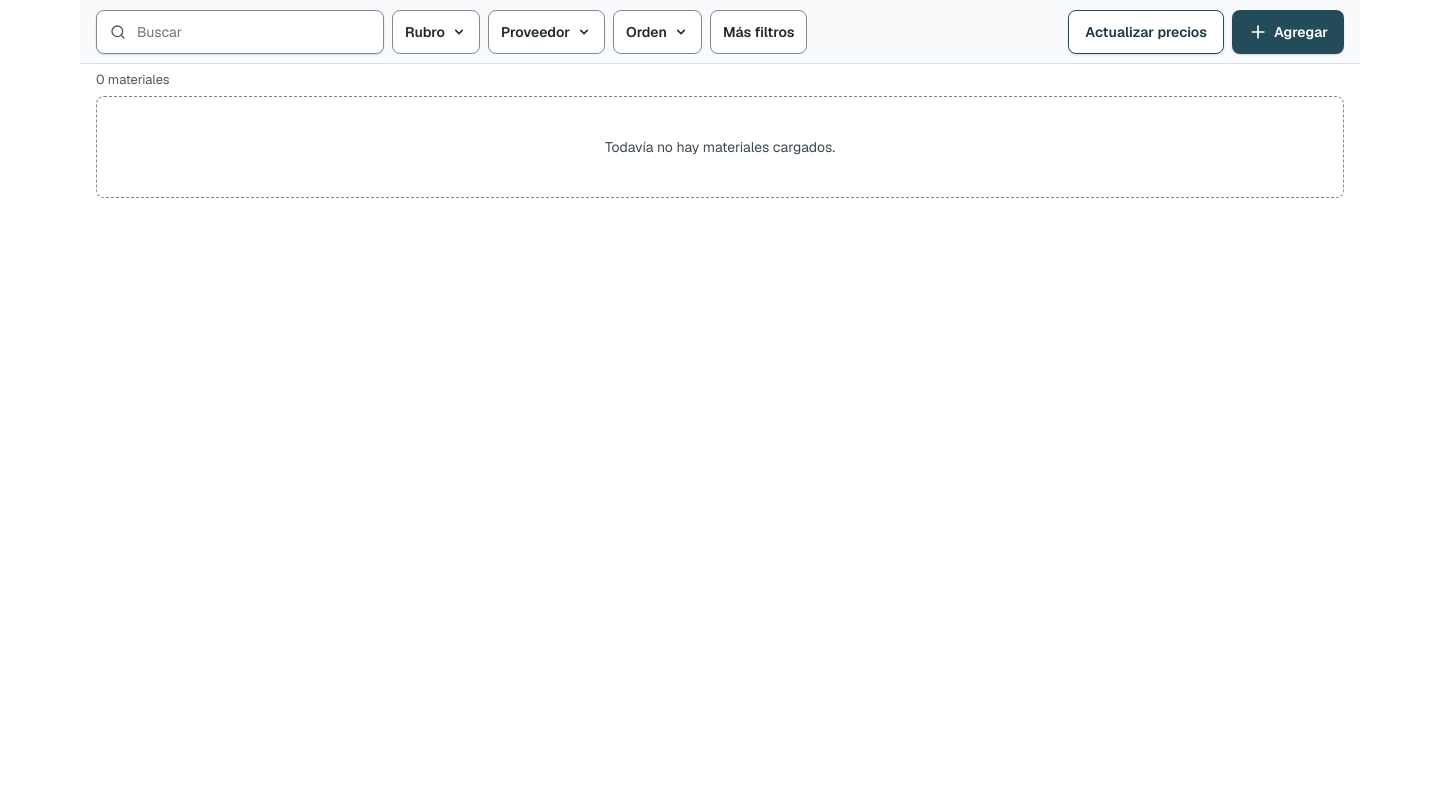
Test: Materiales › agrega un material con precio y cantidades por tamaño
Expected: the text "Todavía no hay materiales cargados." is shown, [96,96,1344,198]
Click the button with aria-label "Agregar material".
click(1288, 32)  # box [1232,10,1344,54]
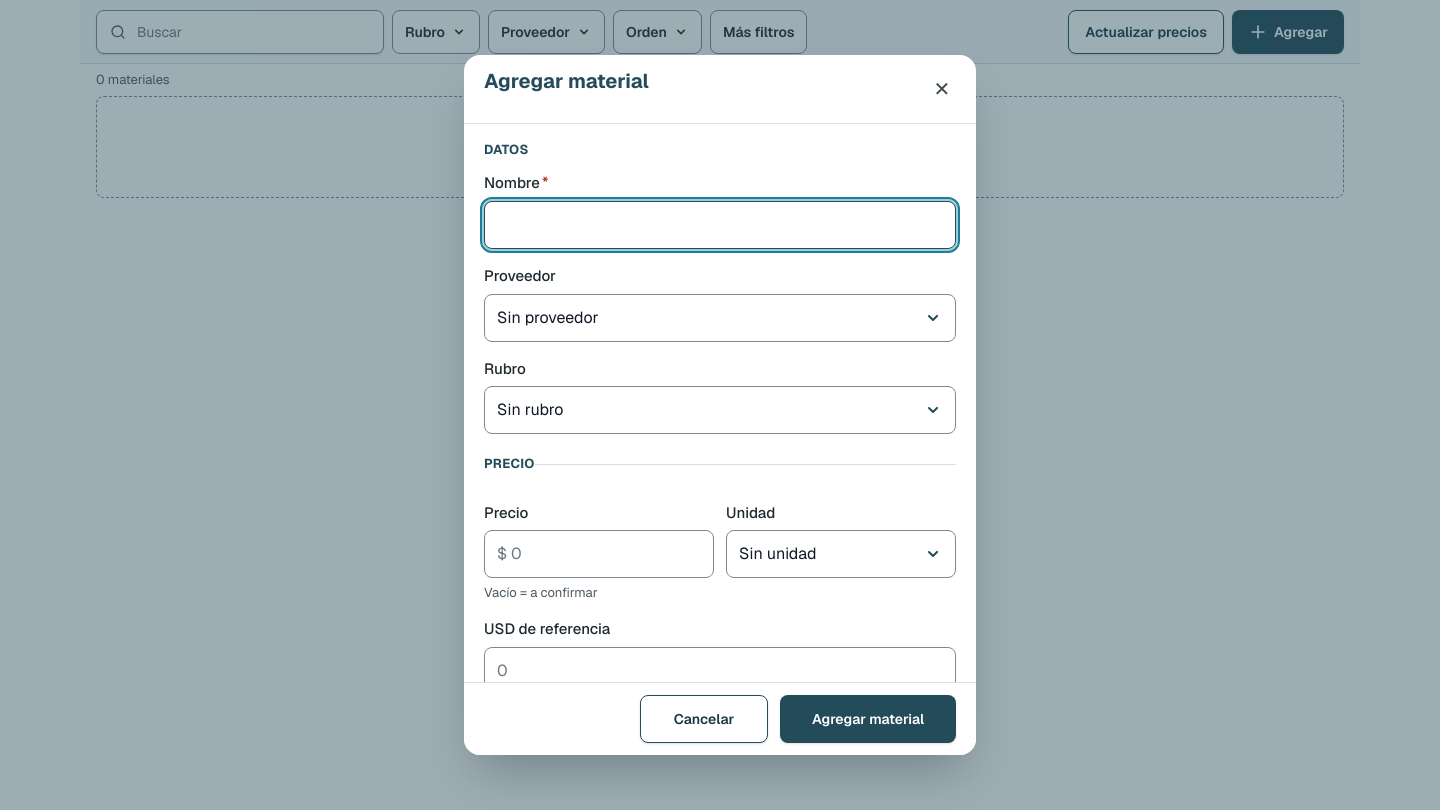
Type "Hierro del 6" into the field labelled "Nombre".
click(720, 225); type("Hierro del 6")  # box [484,201,956,249]
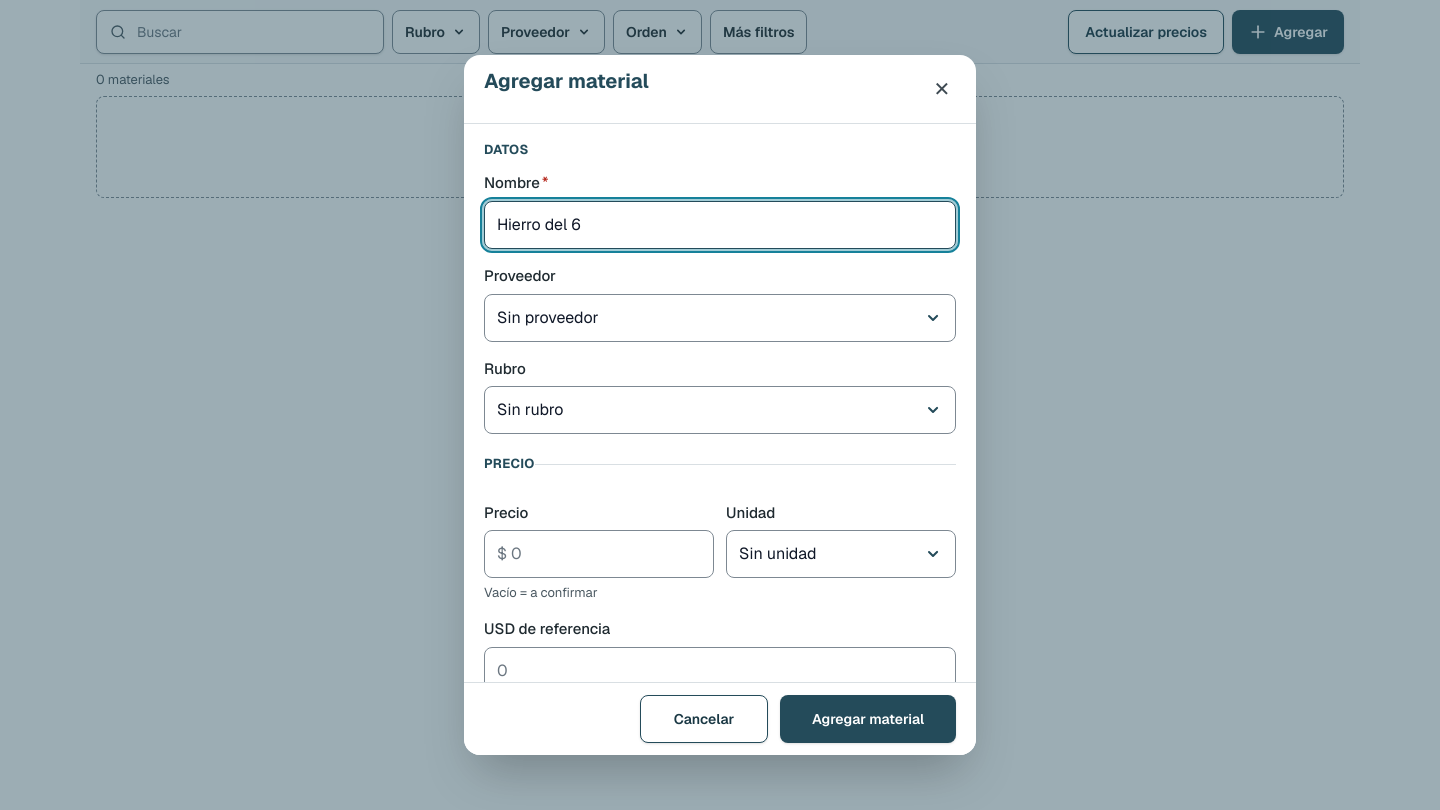
Select "Ranco" in the dropdown labelled "Proveedor" at (520, 277), box [484,265,556,288]
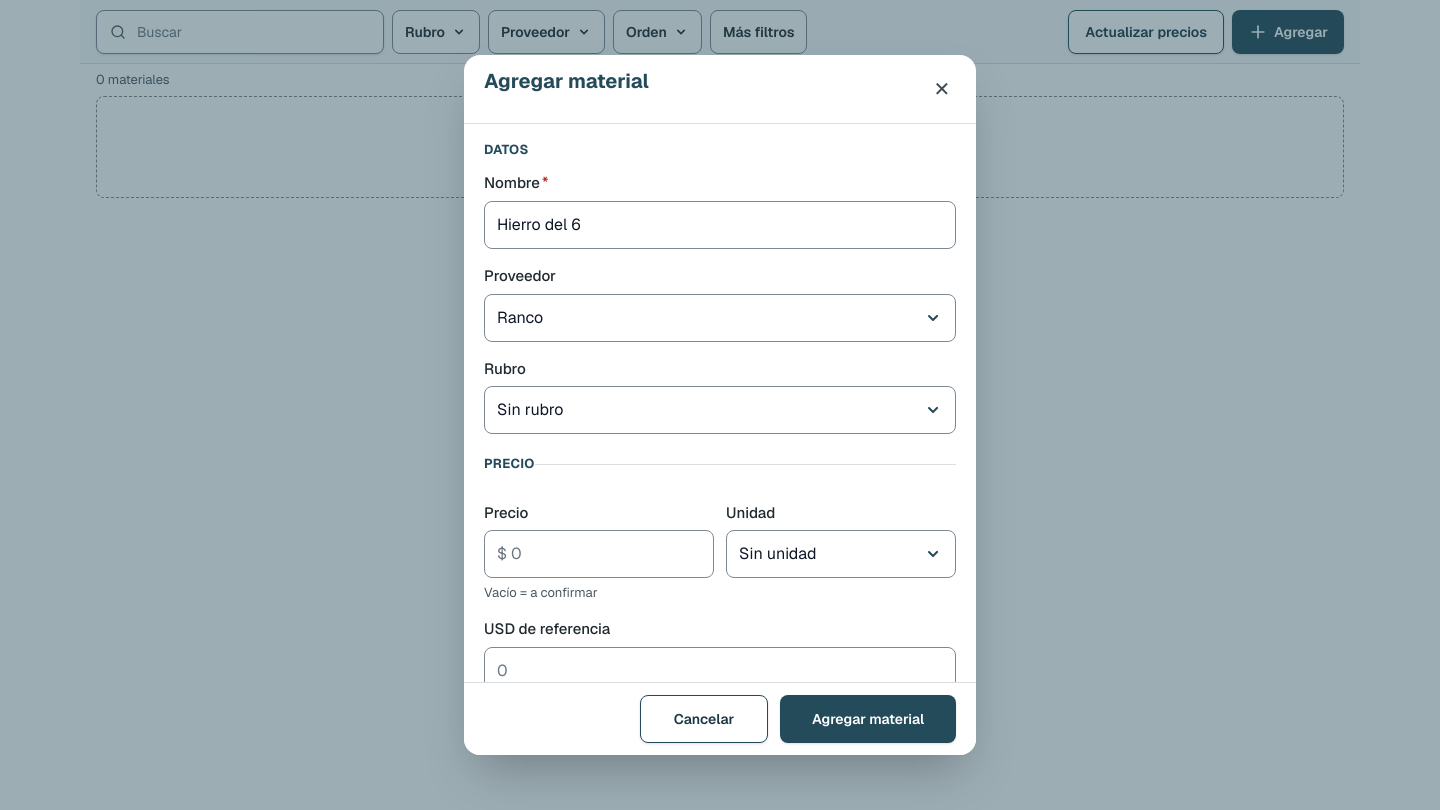
Type "5339" into the field labelled "Precio".
click(599, 554); type("5339")  # box [484,530,714,578]
(page scrolled)
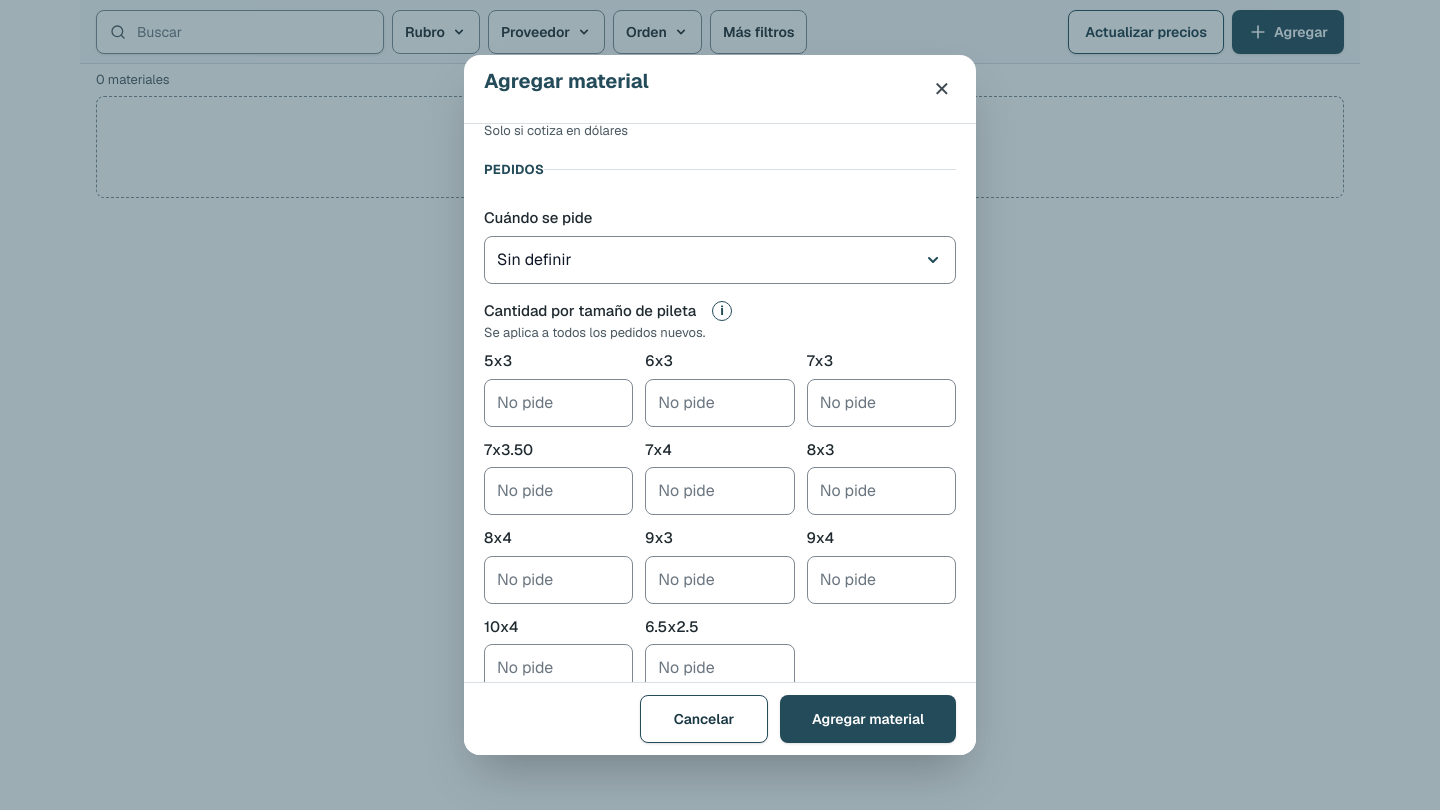
Type "50" into the field labelled "5x3".
click(559, 402); type("50")  # box [484,378,633,426]
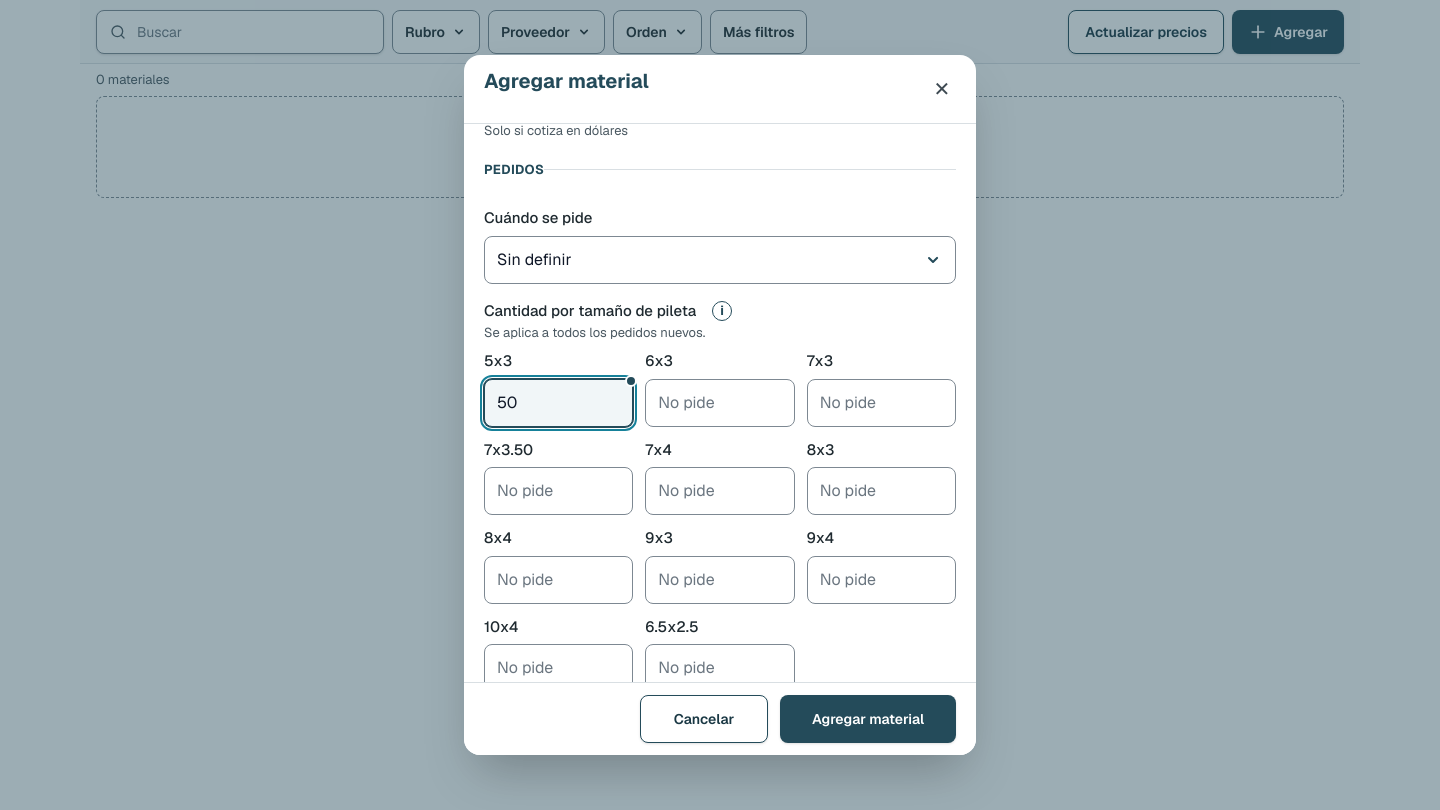
Click the button "Agregar material".
click(868, 719)  # box [780,695,956,743]
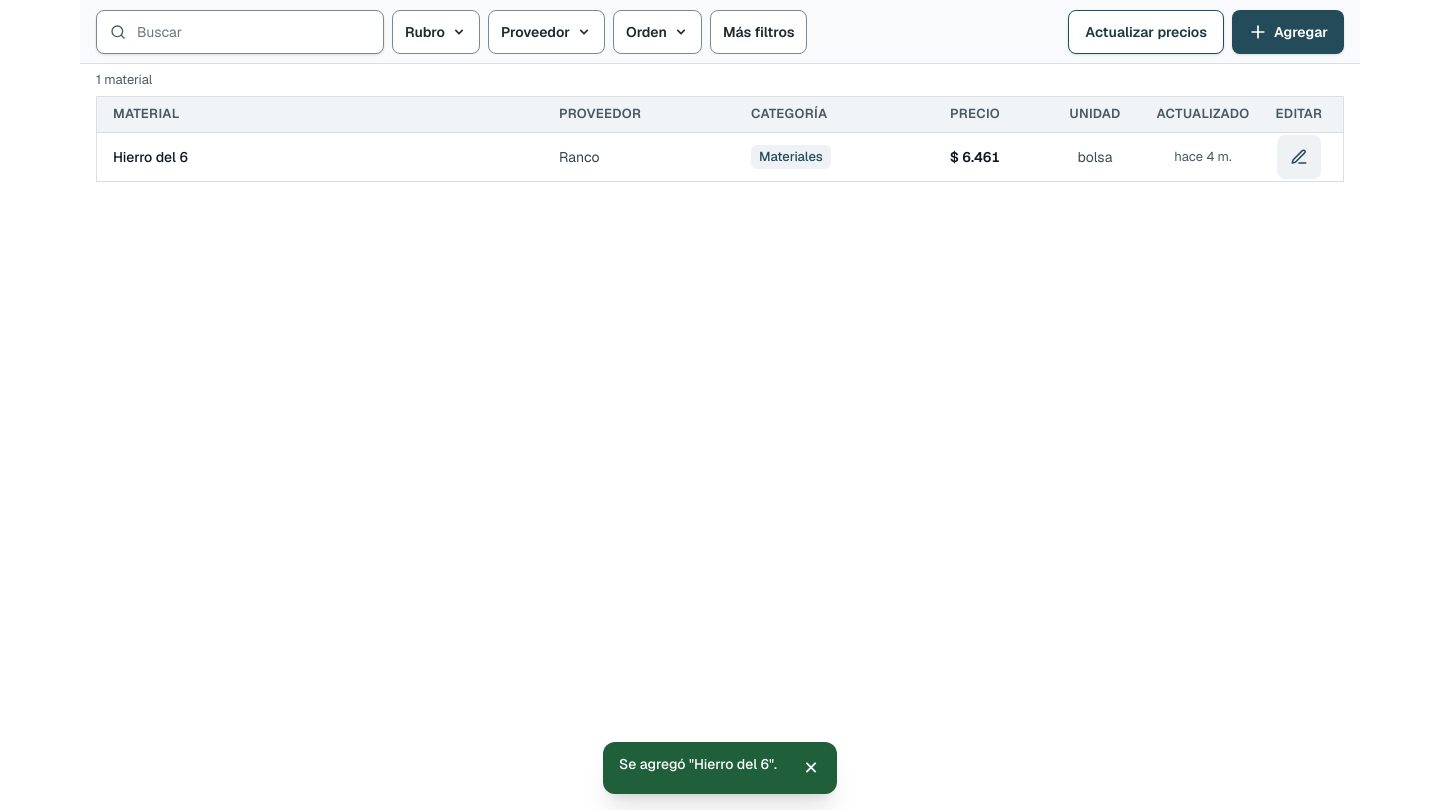
Expected: the text "Se agregó \"Hierro del 6\"." is shown, [619,754,777,774]
